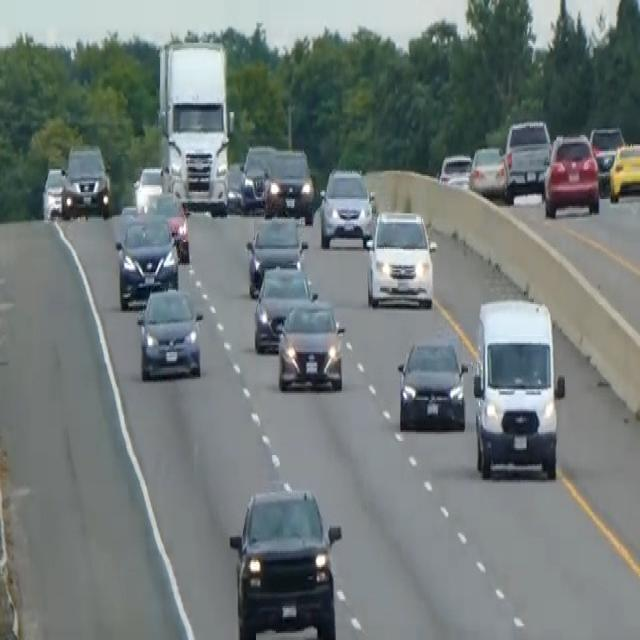car: (228, 480, 342, 638), (365, 208, 437, 309), (396, 336, 468, 432), (277, 293, 345, 391), (135, 284, 203, 380), (114, 212, 179, 308), (253, 261, 315, 354), (245, 213, 306, 295), (542, 131, 600, 217), (319, 165, 374, 247), (502, 117, 551, 199), (262, 146, 314, 222), (60, 142, 111, 219), (148, 188, 190, 262), (239, 142, 276, 210), (589, 123, 625, 190), (468, 142, 507, 198), (608, 140, 639, 202), (133, 163, 165, 210), (41, 164, 66, 218), (438, 151, 471, 189), (226, 160, 244, 212)
lorry: (156, 37, 232, 215)
minibus: (470, 292, 566, 482)
